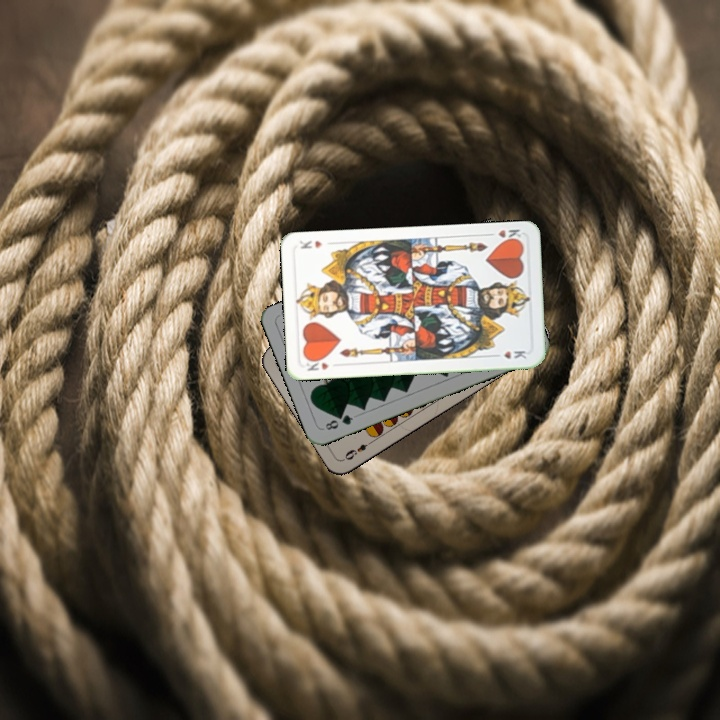E9: (341, 436, 376, 463)
G8: (321, 410, 356, 433)
HK: (483, 225, 524, 245), (301, 355, 331, 373)
